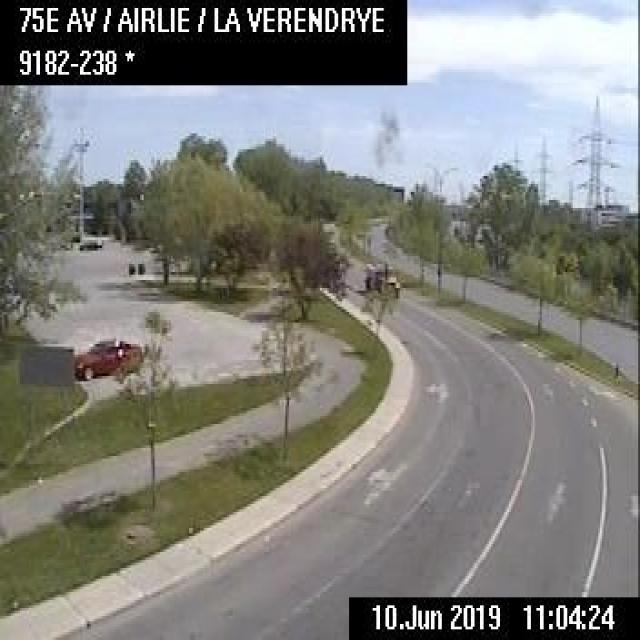vehicle: (73, 332, 144, 381), (364, 261, 402, 299), (77, 234, 103, 251)
